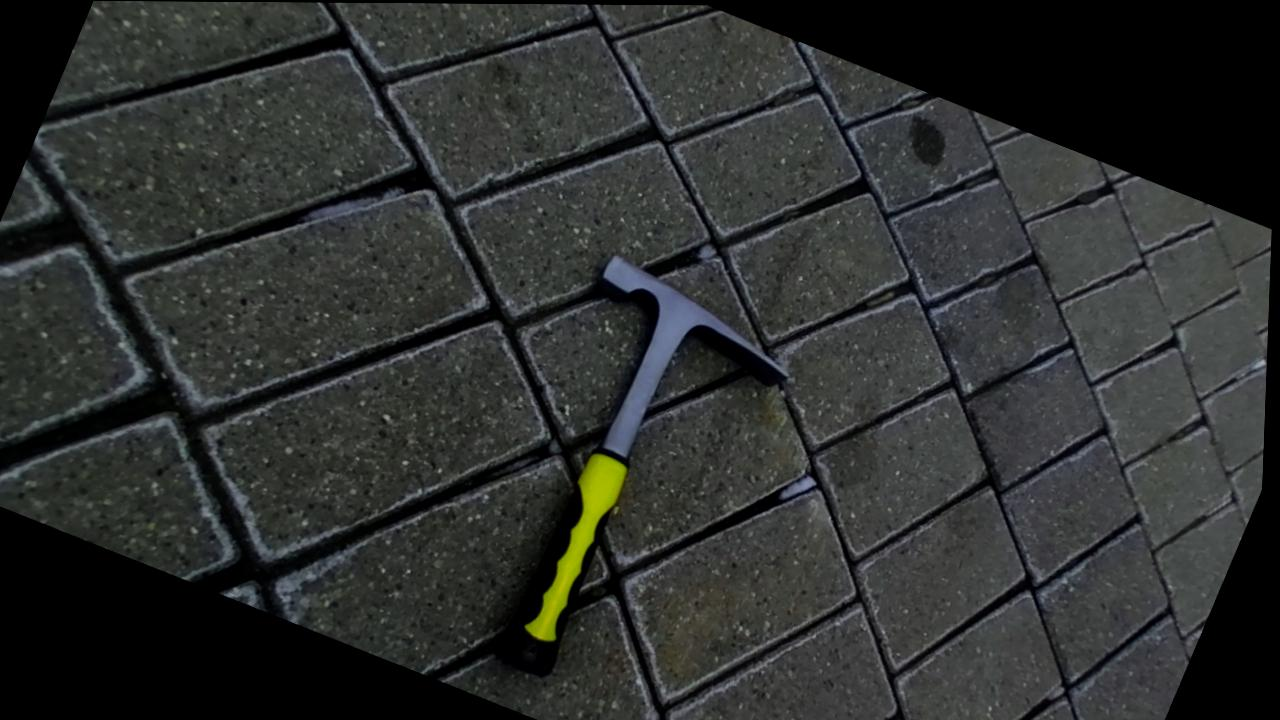pick: (497, 256, 786, 675)
